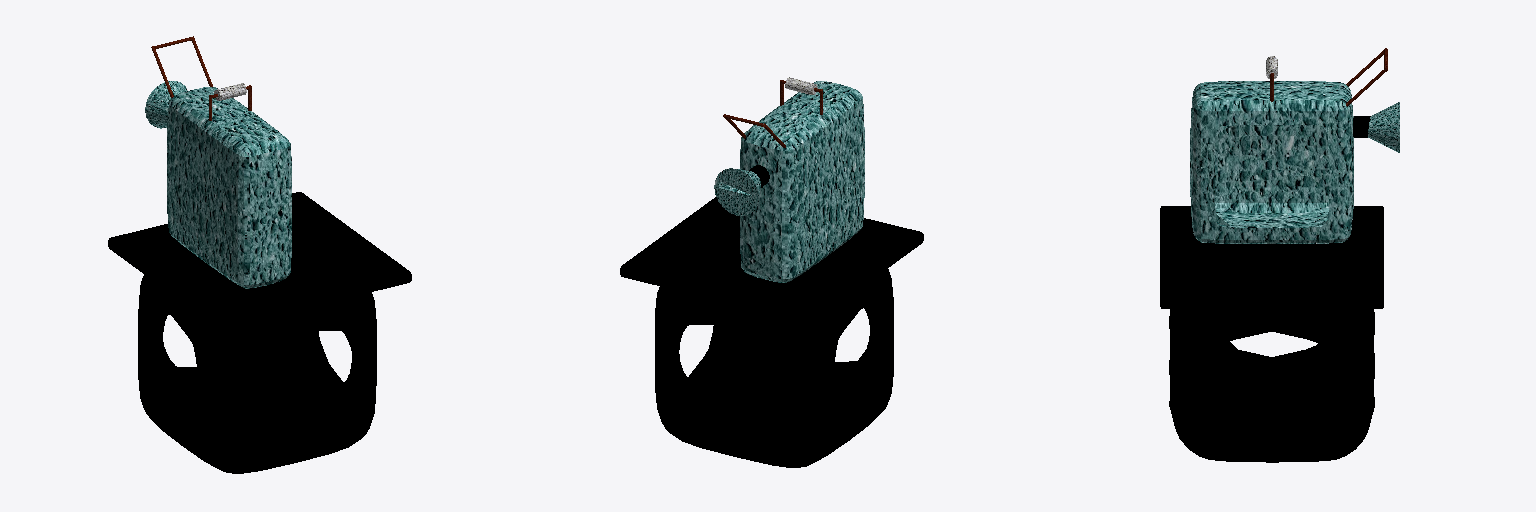
The picture shows the model from 3 angles: view 1: azimuth 30°, elevation 25°; view 2: azimuth 150°, elevation 25°; view 3: azimuth 270°, elevation 25°; orthographic projection.
Visible parts, largest first — view 1: polySurface2; view 2: polySurface2; view 3: polySurface2.
Boxes of the visible parts, <box> form: polySurface2: <box>108,36,411,473</box>; polySurface2: <box>620,77,923,467</box>; polySurface2: <box>1160,48,1399,462</box>.
Bounding box in the file's own units: 33.47 × 60.46 × 35.82.
7 materials, 3 textured.